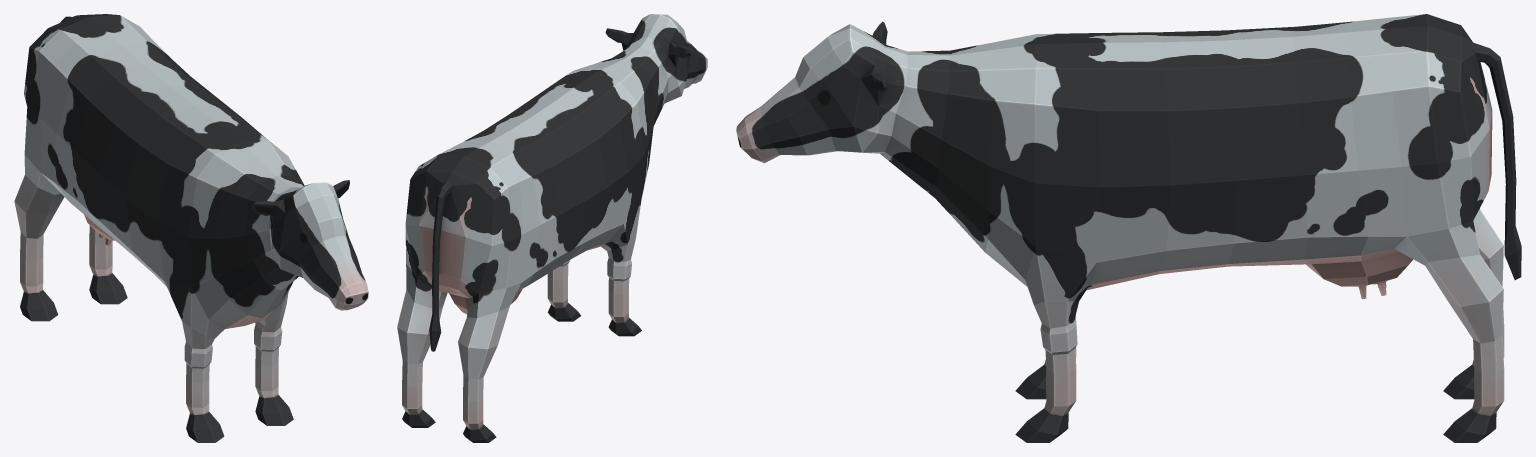
Rendered from Cow.gltf.
The picture shows the model from 3 angles, left to right: view 1: azimuth 30°, elevation 25°; view 2: azimuth 150°, elevation 25°; view 3: azimuth 270°, elevation 25°; orthographic projection. The views are drawn at different scales.
Parts seen in each view (by area): view 1: Cow_mesh; view 2: Cow_mesh; view 3: Cow_mesh.
Boxes of the visible parts, left/top/right/bottom form: Cow_mesh: left=14, top=14, right=368, bottom=442; Cow_mesh: left=397, top=14, right=707, bottom=442; Cow_mesh: left=736, top=14, right=1521, bottom=442.
Bounding box in the file's own units: 3.36 × 7.42 × 13.65.
1 material, 1 textured.
